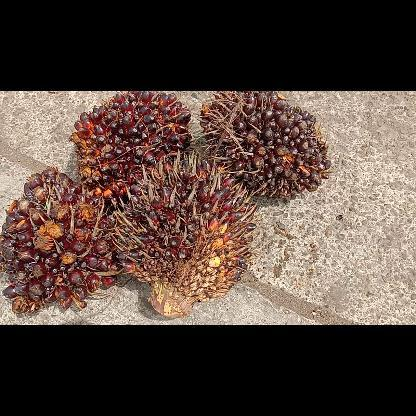Kurang masak: (108, 152, 258, 318), (0, 164, 124, 318), (196, 90, 334, 202), (66, 90, 196, 202)
